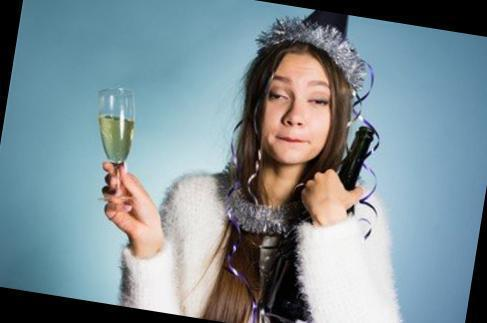Drunk: (262, 54, 329, 162)
